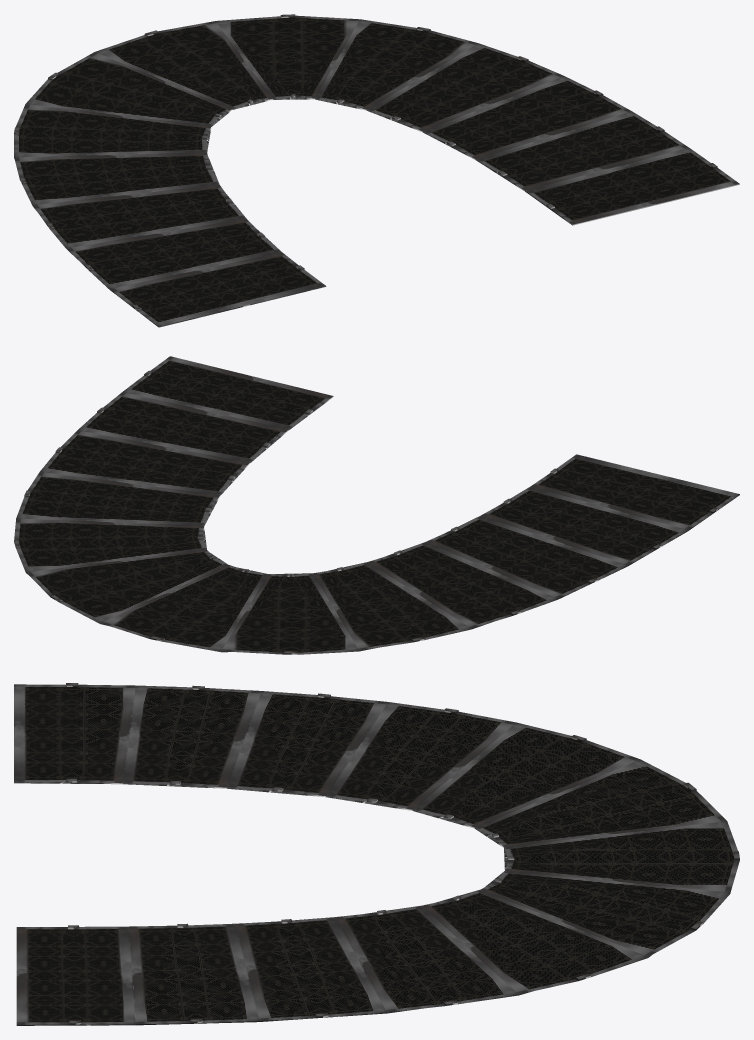
File: Track180.fbx
The picture shows the model from 3 angles, top to bottom: view 1: azimuth 30°, elevation 25°; view 2: azimuth 150°, elevation 25°; view 3: azimuth 270°, elevation 25°; orthographic projection. The views are drawn at different scales.
Parts seen in each view (by area): view 1: Track; view 2: Track; view 3: Track.
Boxes of the visible parts, x1,y1,x2,y2 form: Track: (14,14,739,327); Track: (14,356,739,654); Track: (14,683,739,1025).
Bounding box in the file's own units: 13914 × 50 × 12541.
1 material, 1 textured.
